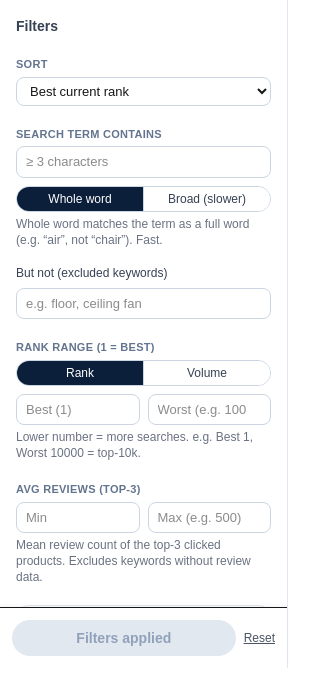
Test: exclude terms ("But not") › shows the overflow warning when more than five terms are typed
Type "a1a, b2b, c3c, d4d, e5e, f6f" into the field labelled "But not (excluded keywords)".
click(144, 303); type("a1a, b2b, c3c, d4d, e5e, f6f")  # box x1=16 y1=288 x2=271 y2=319
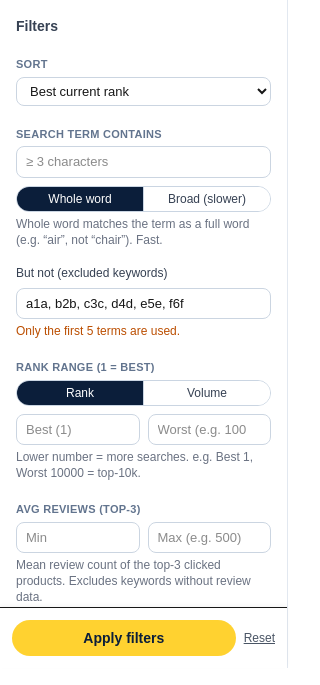
Expected: the text "Only the first 5 terms are used." is shown, x1=16 y1=324 x2=180 y2=338
